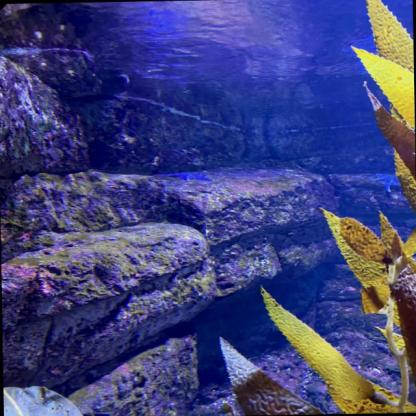starfish: (370, 171, 405, 194), (166, 167, 214, 183)
